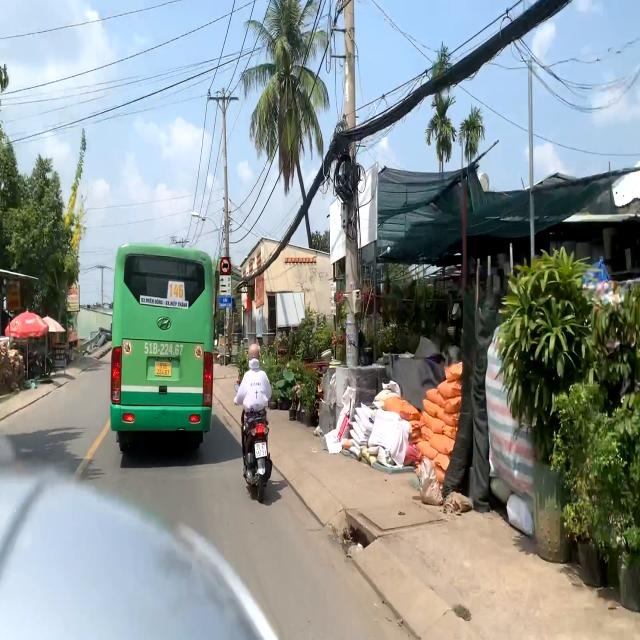bien_chi_dan: (220, 257, 231, 275)
